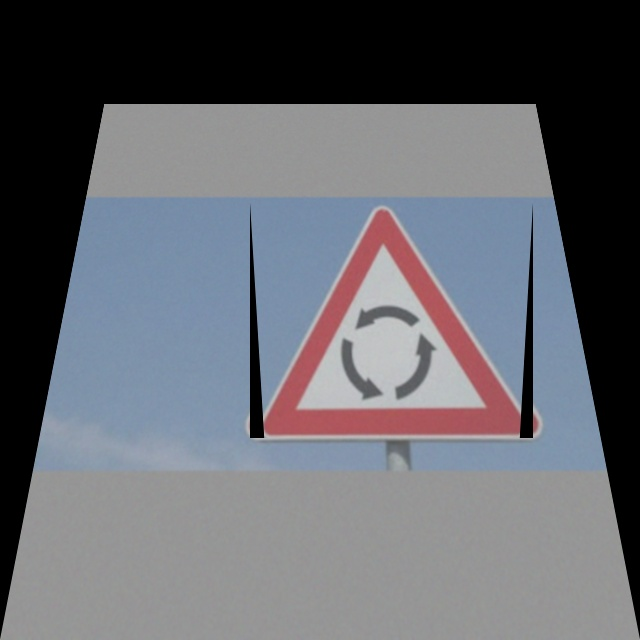Round_About: (250, 202, 533, 438)
